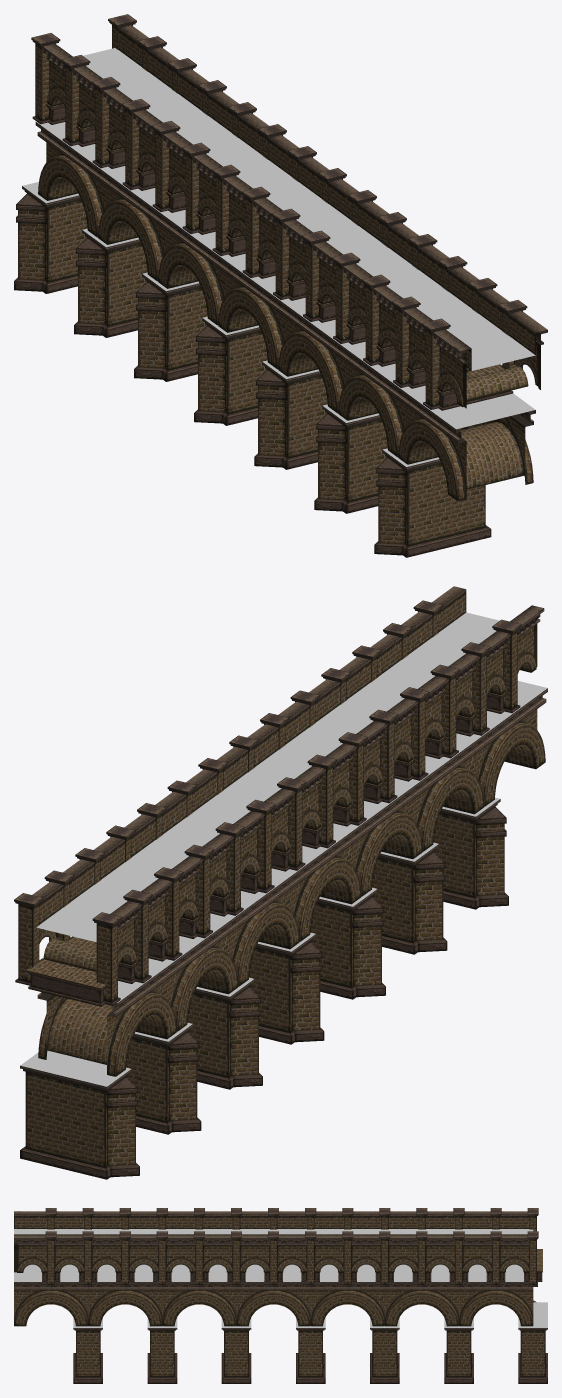
File: EnvMdrMD_Sea_Aqueduct_A.FBX
3 renders of one model, top to bottom at view 1: azimuth 30°, elevation 25°; view 2: azimuth 150°, elevation 25°; view 3: azimuth 270°, elevation 25°, orthographic. The views are drawn at different scales.
Parts seen in each view (by area): view 1: EnvMdrMD_Sea_Aqueduct_A; view 2: EnvMdrMD_Sea_Aqueduct_A; view 3: EnvMdrMD_Sea_Aqueduct_A.
Part boxes in pixels (bbox=[...]): EnvMdrMD_Sea_Aqueduct_A: bbox=[14, 14, 547, 557]; EnvMdrMD_Sea_Aqueduct_A: bbox=[14, 586, 547, 1179]; EnvMdrMD_Sea_Aqueduct_A: bbox=[14, 1208, 547, 1383].
Size of the model in its own units: 683 by 1345 by 4320.
